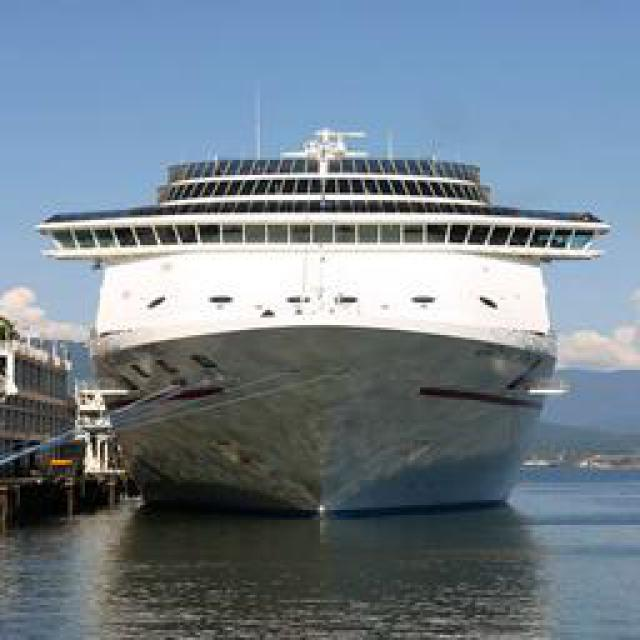Ship: (76, 170, 579, 513)
